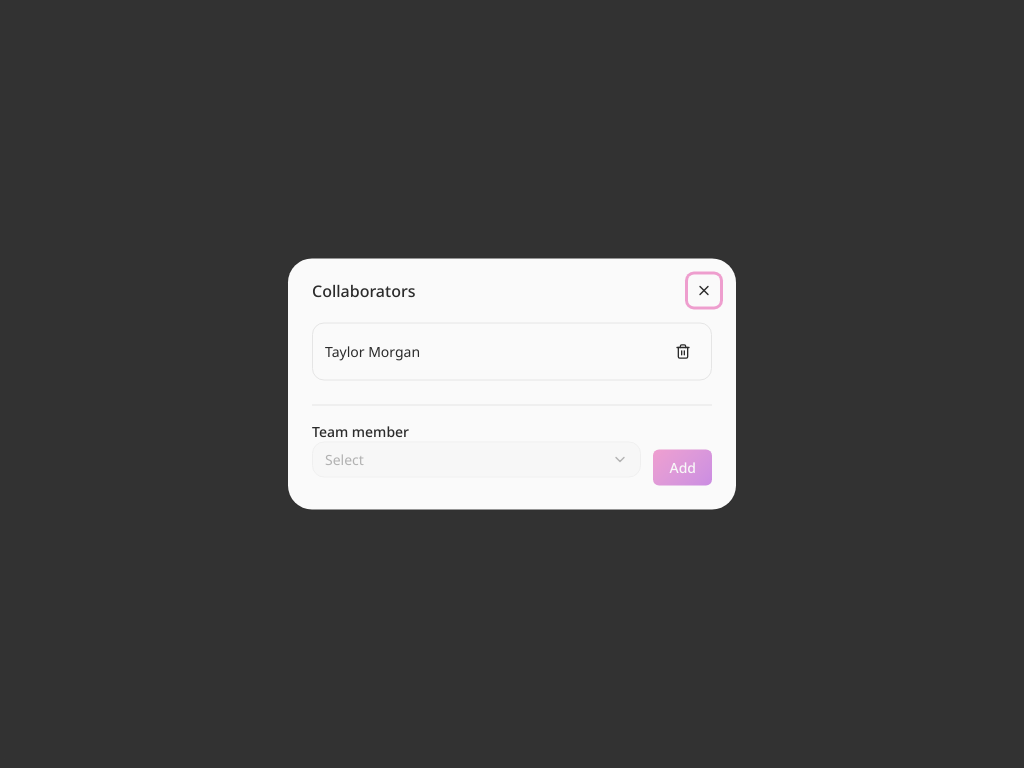
it: record collaborators › removes existing grants even when the recipient is absent from active options
This screenshot has width=1024, height=768.
Click the button named "Remove Taylor Morgan": [683, 352] box [667,336,699,368]
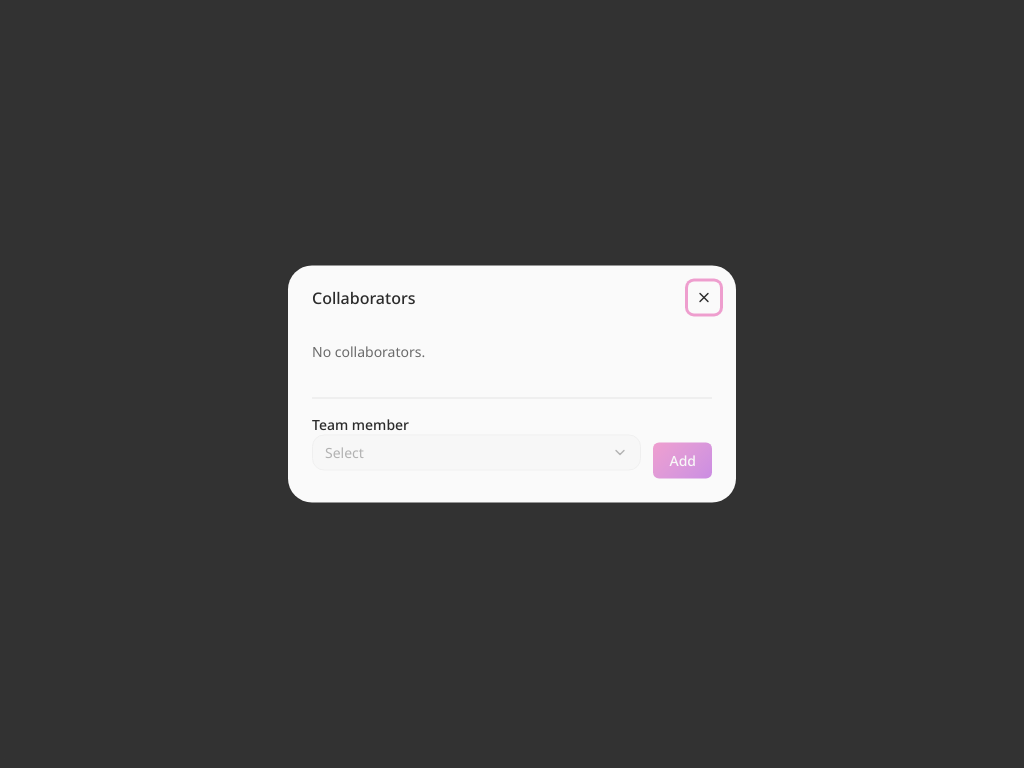
Expected: the text "No collaborators." is shown, [312,342,425,360]
